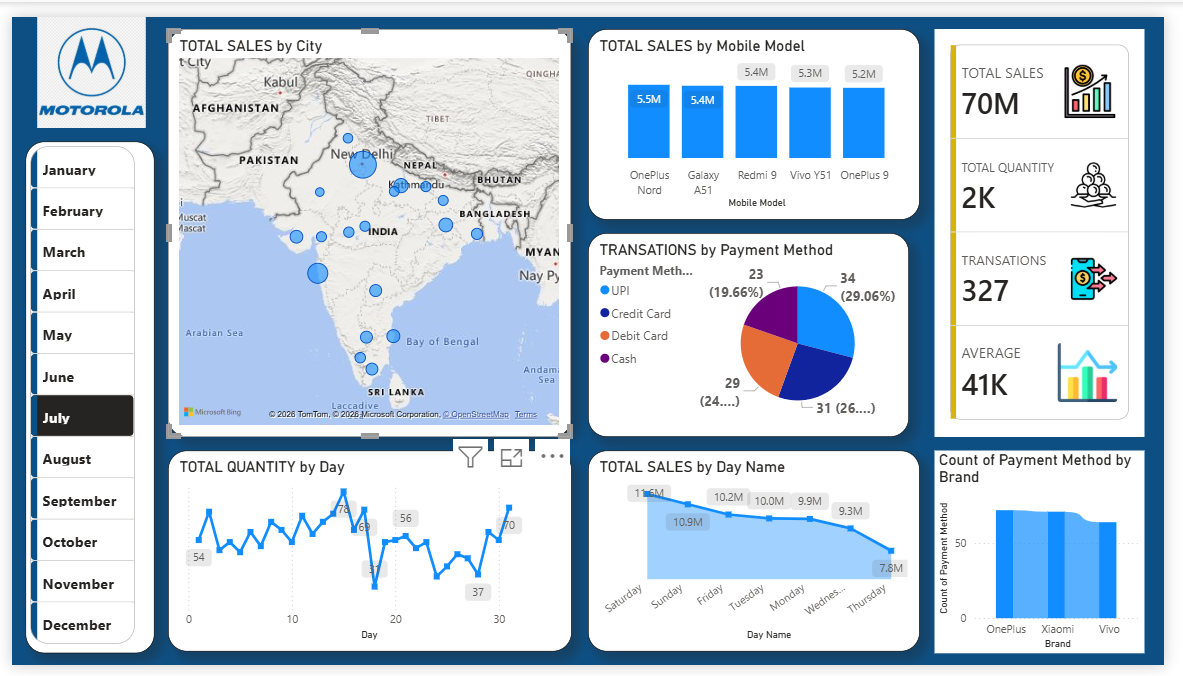

Layout of this report page (visuals, bound fields, positions):
{"tool":"powerbi","page":{"name":"Page 1","canvas":[1280,720],"ordinal":0},"visuals":[{"type":"image","box":[3.3,0,170,123.3],"z":0},{"type":"shape","box":[15,138.3,143.3,568.3],"z":1000},{"type":"advancedSlicerVisual","fields":{"Values":["Sheet1.DATE.Variation.Date Hierarchy.Month"]},"box":[15,138.3,126.7,568.3],"z":2000},{"type":"cardVisual","fields":{"Data":["Sales_Data.TOTAL SALES","Sales_Data.TOTAL QUANTITY","Sales_Data.TRANSATIONS","Sales_Data.AVERAGE"]},"box":[1025,13.3,233.3,453.3],"z":3000},{"type":"map","fields":{"Category":["Sales_Data.City"],"Size":["Sales_Data.TOTAL SALES"]},"box":[173.3,13.3,448.3,453.3],"z":4000},{"type":"lineChart","fields":{"Y":["Sales_Data.TOTAL QUANTITY"],"Category":["Sales_Data.DATE.Variation.Date Hierarchy.Day"]},"box":[173.3,481.7,448.3,223.3],"z":5000},{"type":"clusteredColumnChart","fields":{"Category":["Sales_Data.Mobile Model"],"Y":["Sales_Data.TOTAL SALES"]},"box":[640,13.3,368.3,211.7],"z":6000},{"type":"pieChart","fields":{"Category":["Sales_Data.Payment Method"],"Y":["Sales_Data.TRANSATIONS"]},"box":[640,240,356.7,226.7],"z":7000},{"type":"areaChart","fields":{"Category":["Sales_Data.Day Name"],"Y":["Sales_Data.TOTAL SALES"]},"box":[640,481.7,368.3,223.3],"z":8000},{"type":"ribbonChart","fields":{"Category":["Sales_Data.Brand"],"Y":["CountNonNull(Sales_Data.Payment Method)"]},"box":[1025,481.7,233.3,225],"z":9000}]}

Visuals, with their boxes in screenshot pixels (x1, y1, x2, y2), scaled from the page's 1280x720 canvas onto the 1183x676 screenshot:
image: l=3, t=0, r=160, b=116
shape: l=14, t=130, r=146, b=663
advancedSlicerVisual - Sheet1.DATE.Variation.Date Hierarchy.Month: l=14, t=130, r=131, b=663
cardVisual - Sales_Data.TOTAL SALES x Sales_Data.TOTAL QUANTITY: l=947, t=12, r=1163, b=438
map - Sales_Data.City x Sales_Data.TOTAL SALES: l=160, t=12, r=574, b=438
lineChart - Sales_Data.TOTAL QUANTITY x Sales_Data.DATE.Variation.Date Hierarchy.Day: l=160, t=452, r=574, b=662
clusteredColumnChart - Sales_Data.Mobile Model x Sales_Data.TOTAL SALES: l=592, t=12, r=932, b=211
pieChart - Sales_Data.Payment Method x Sales_Data.TRANSATIONS: l=592, t=225, r=921, b=438
areaChart - Sales_Data.Day Name x Sales_Data.TOTAL SALES: l=592, t=452, r=932, b=662
ribbonChart - Sales_Data.Brand x CountNonNull(Sales_Data.Payment Method): l=947, t=452, r=1163, b=664
